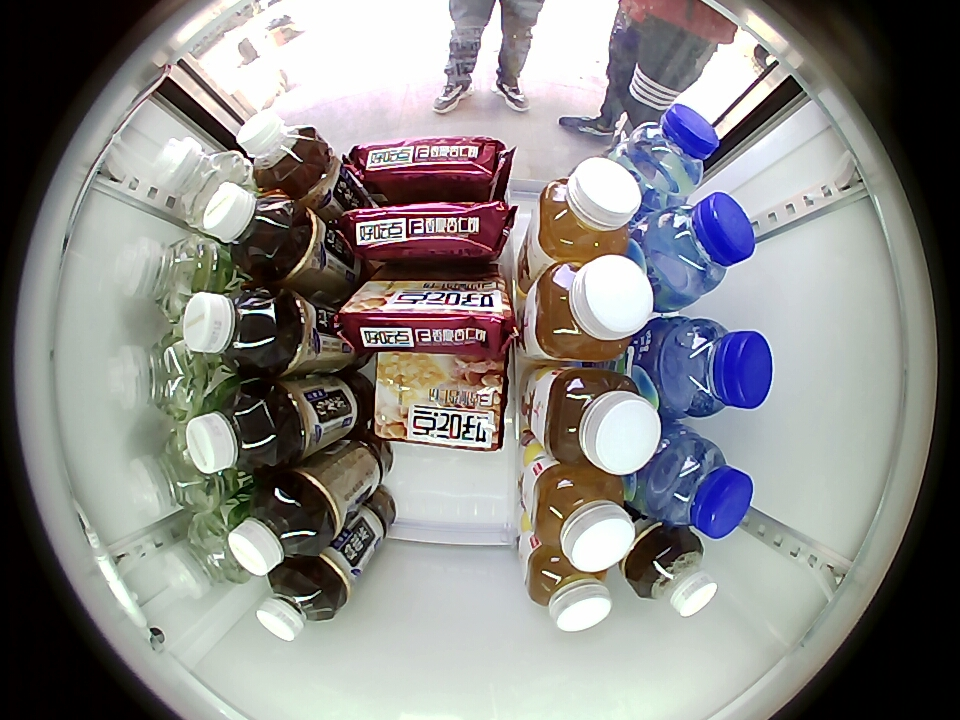chapai: (528, 254, 654, 362), (538, 368, 662, 475), (534, 156, 642, 262), (531, 465, 635, 572), (525, 546, 612, 632)
haochidian: (337, 275, 516, 352), (371, 352, 509, 450), (340, 201, 513, 263), (342, 135, 514, 197)
jianjiao: (115, 235, 220, 324), (128, 428, 221, 517), (110, 333, 203, 420), (155, 137, 246, 224), (163, 511, 248, 598)
maidong: (642, 192, 757, 300), (643, 436, 754, 539), (659, 319, 773, 418), (624, 103, 720, 199)
wulongcha: (184, 383, 282, 476), (181, 284, 282, 374), (227, 481, 323, 575), (201, 182, 296, 275), (631, 532, 718, 617), (237, 109, 322, 189), (256, 565, 338, 642)
